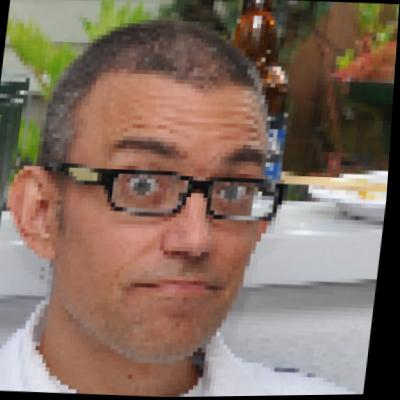surprise: (47, 60, 282, 362)
